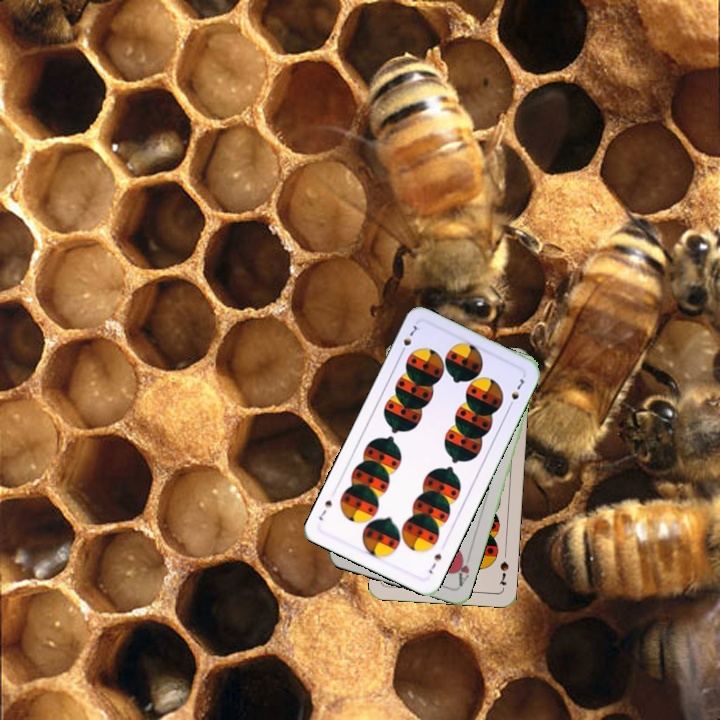HA: (452, 549, 474, 589)
S7: (396, 321, 420, 357), (424, 550, 444, 577), (495, 557, 511, 588)
